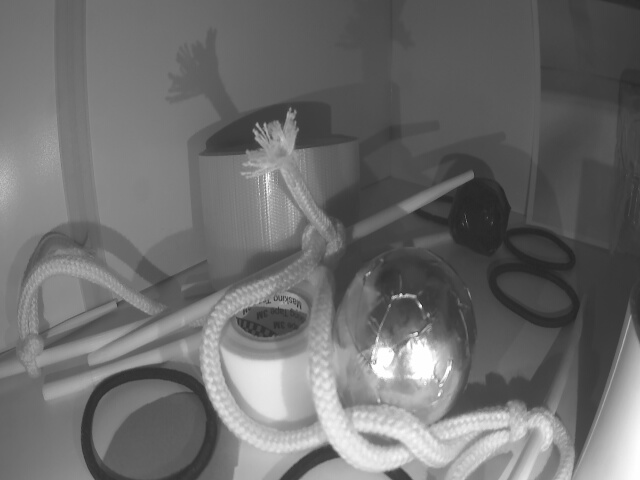Dead: (456, 179, 505, 249)
Live: (338, 244, 469, 432)
